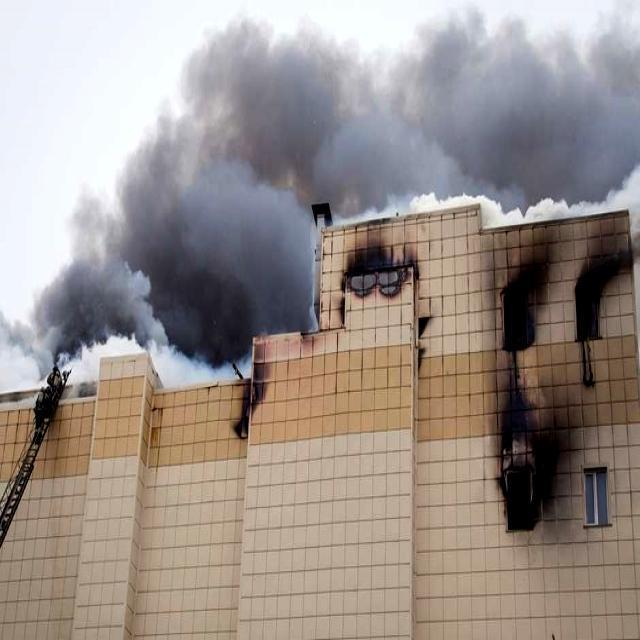Smoke: (2, 0, 636, 330)
